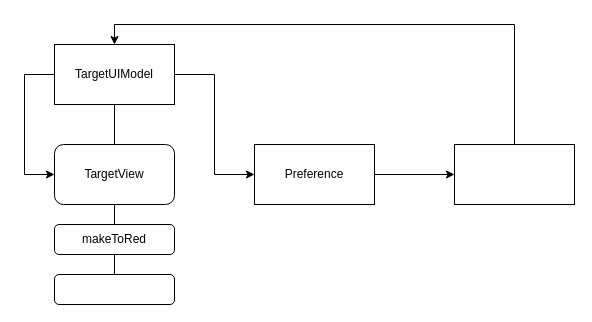
Some shapes in this 592 by 322 pixel diagram are drawn without their labels. Here are the shapes that lost their labels. From the top down, the box of each, then its label:
(454, 144, 574, 204): ViewModifier
(54, 274, 174, 304): makeToLarge
